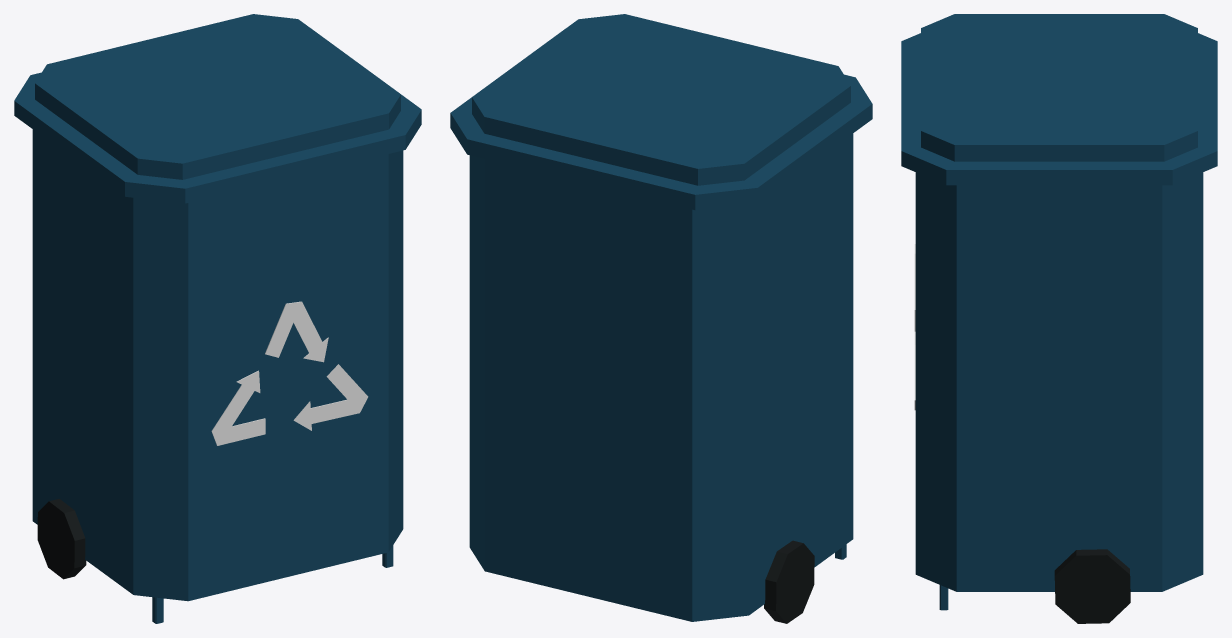
Rendered from trash_blue_H.fbx.
3 renders of one model, left to right at view 1: azimuth 30°, elevation 25°; view 2: azimuth 150°, elevation 25°; view 3: azimuth 270°, elevation 25°, orthographic. The views are drawn at different scales.
Visible parts, largest first — view 1: Cube.006, Cube.011; view 2: Cube.006, Cube.011; view 3: Cube.006, Cube.011.
Boxes of the visible parts, x1,y1,x2,y2 form: Cube.006: (32, 129, 403, 623); Cube.011: (14, 14, 421, 203); Cube.006: (469, 133, 853, 623); Cube.011: (450, 14, 872, 210); Cube.006: (914, 172, 1203, 623); Cube.011: (901, 14, 1217, 185).
Size of the model in its own units: 0.7937 by 0.7181 by 1.18.
1 material, 1 textured.
